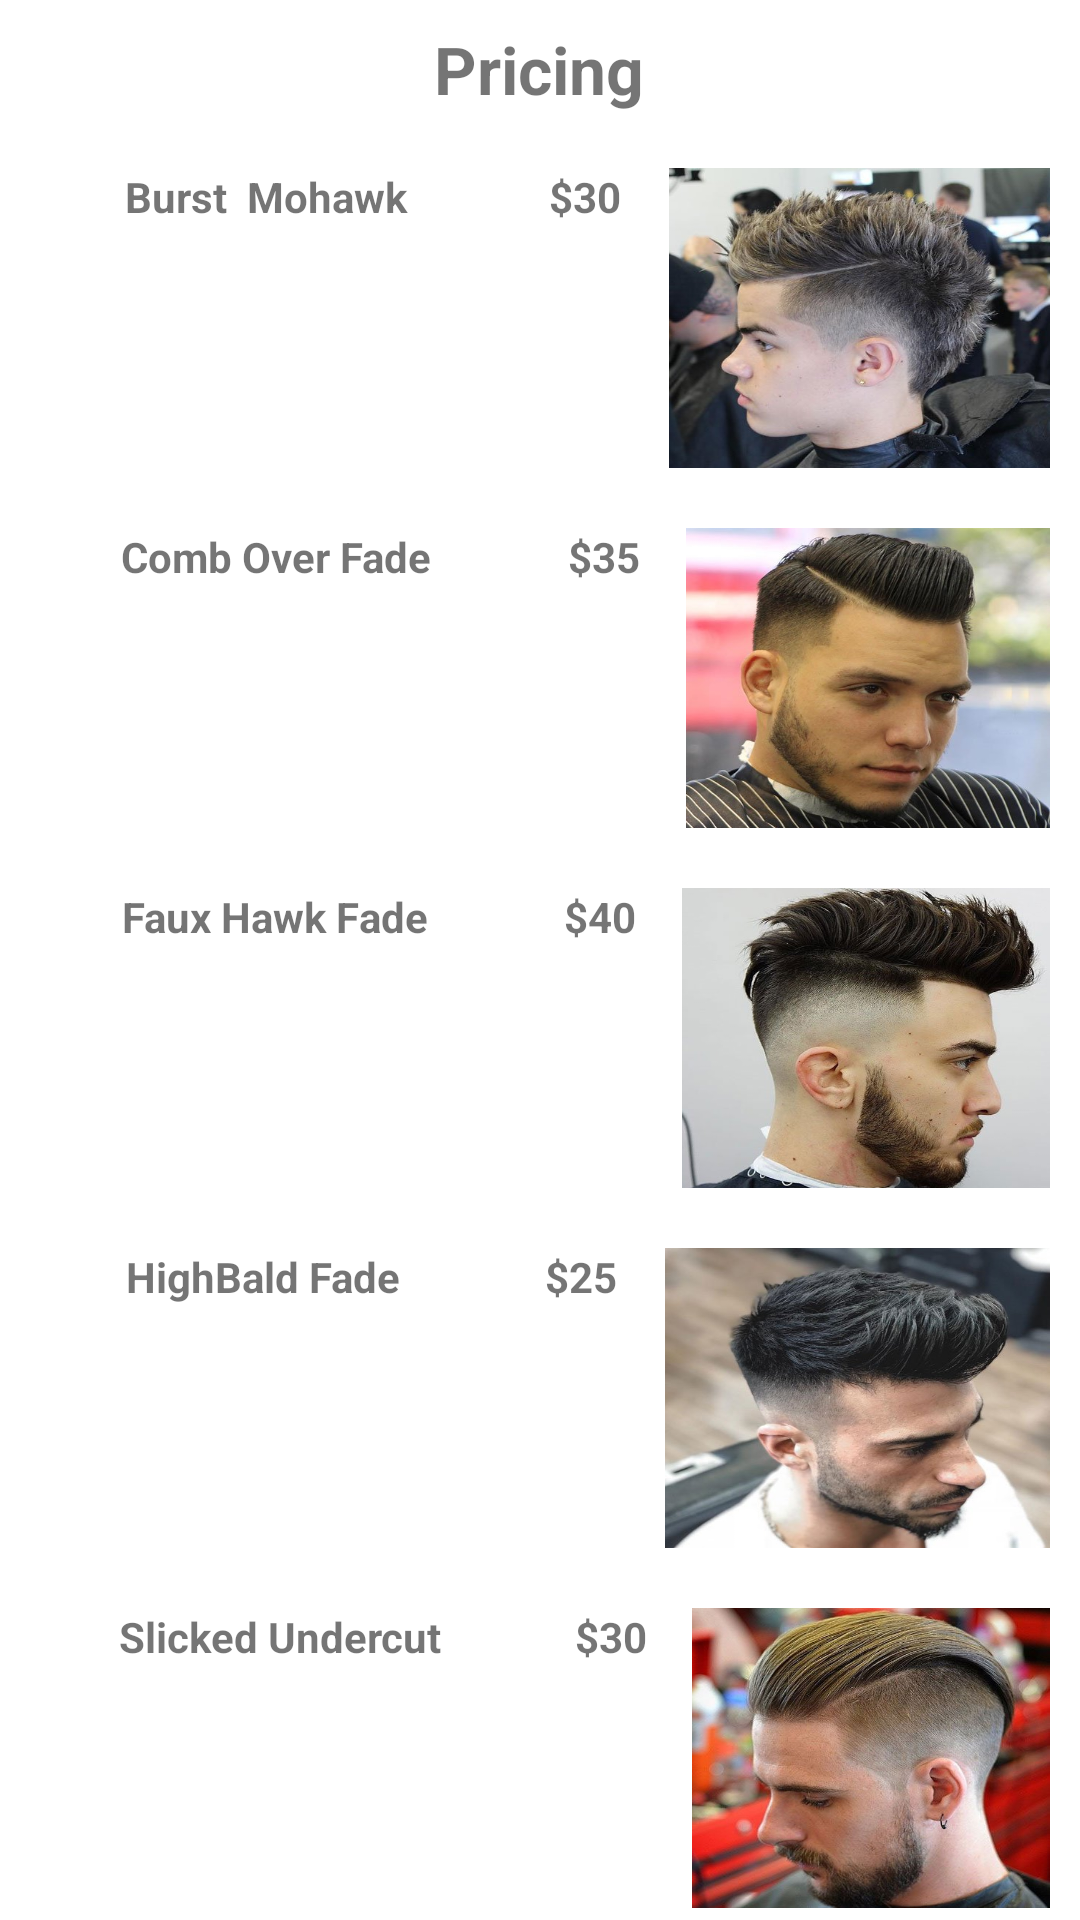

Named icons in this screenshot (1080px x 1920px) and their centers, (x,y):
slicked back undercut: (871,1758)
